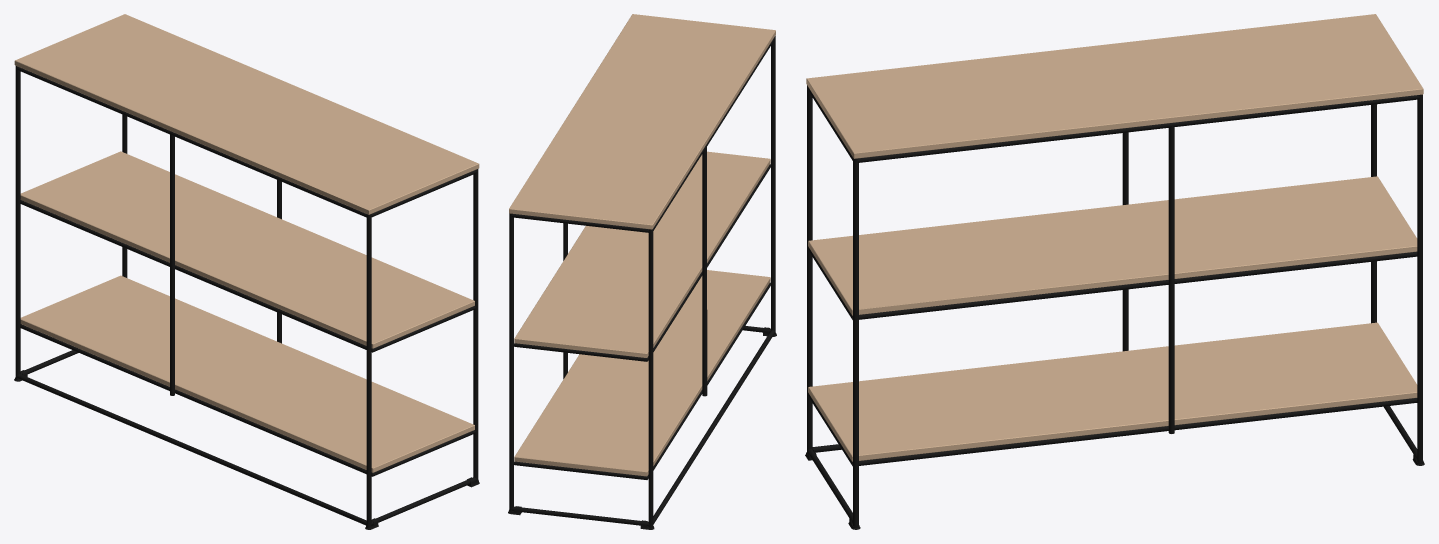
Rendered from uploads_files_3337608_rack.fbx.
3 views of the same model, side by side, from view 1: azimuth 30°, elevation 25°; view 2: azimuth 150°, elevation 25°; view 3: azimuth 270°, elevation 25° (orthographic). The views are drawn at different scales.
Parts seen in each view (by area): view 1: 1; view 2: 1; view 3: 1.
Boxes of the visible parts, x1=… form: 1: x1=14, y1=14, x2=479, y2=529; 1: x1=508, y1=14, x2=776, y2=529; 1: x1=805, y1=14, x2=1424, y2=529.
Size of the model in its own units: 123 by 154 by 229.
